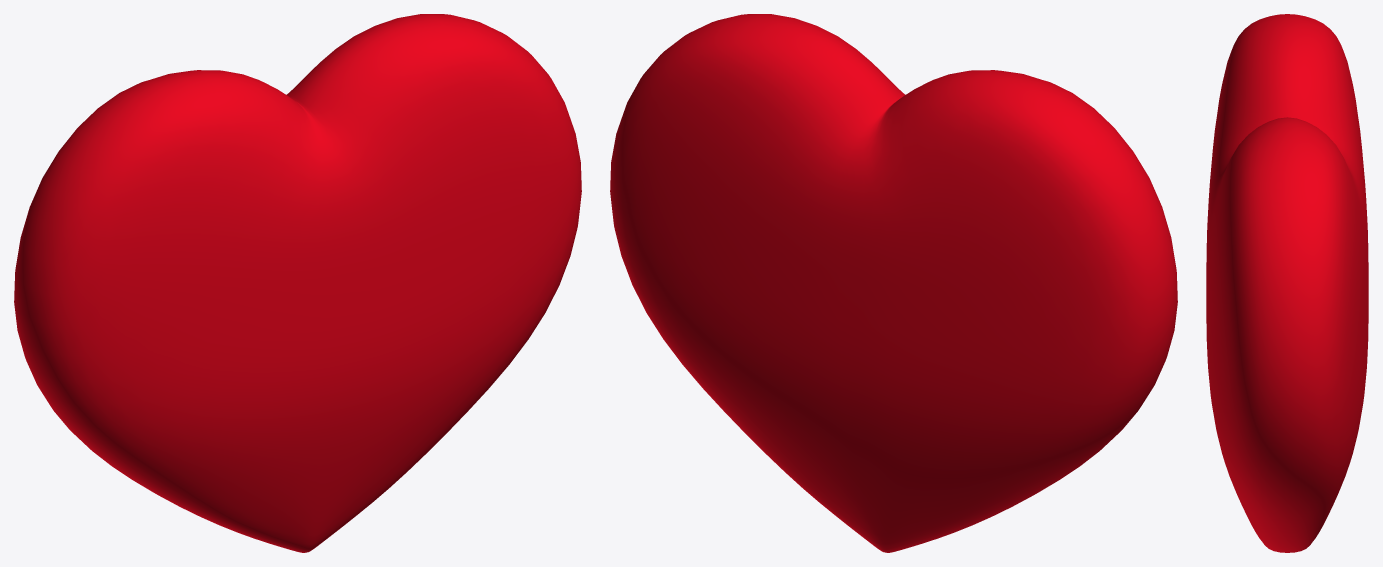
The model's file is heart.glb.
3 renders of one model, left to right at view 1: azimuth 30°, elevation 25°; view 2: azimuth 150°, elevation 25°; view 3: azimuth 270°, elevation 25°, orthographic. The views are drawn at different scales.
Parts seen in each view (by area): view 1: heart; view 2: heart; view 3: heart.
Part boxes in pixels (bbox=[...]): heart: bbox=[14, 14, 581, 552]; heart: bbox=[610, 14, 1177, 552]; heart: bbox=[1206, 14, 1368, 552].
Bounding box in the file's own units: 1.3 × 1.13 × 0.3524.
